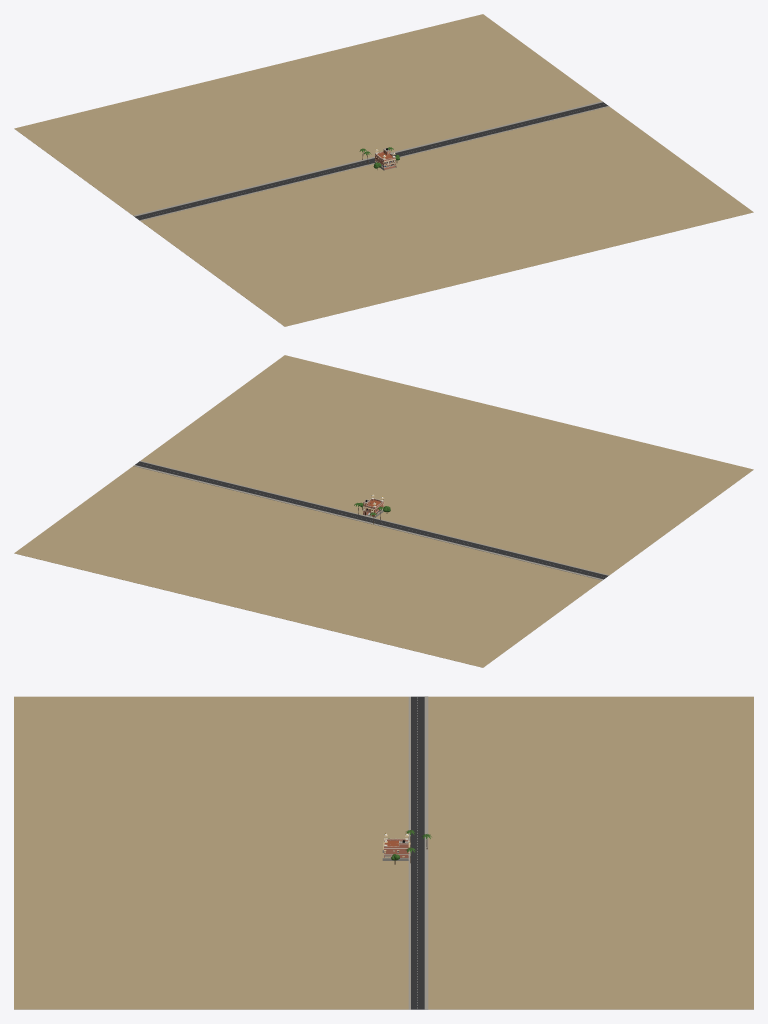
Rendered from home_hotel.glb.
3 views of the same model, one above another, from view 1: azimuth 30°, elevation 25°; view 2: azimuth 150°, elevation 25°; view 3: azimuth 270°, elevation 25° (orthographic). The views are drawn at different scales.
Visible parts, largest first — view 1: SITE__Earth, SITE__Asphalt, SITE__Concrete; view 2: SITE__Earth, SITE__Asphalt, SITE__Concrete; view 3: SITE__Earth, SITE__Asphalt, SITE__Concrete.
Boxes of the visible parts, bbox=[...] form: SITE__Earth: bbox=[14, 14, 753, 326]; SITE__Asphalt: bbox=[135, 102, 608, 220]; SITE__Concrete: bbox=[133, 101, 609, 220]; SITE__Earth: bbox=[14, 355, 753, 667]; SITE__Asphalt: bbox=[135, 461, 607, 579]; SITE__Concrete: bbox=[133, 460, 609, 580]; SITE__Earth: bbox=[14, 696, 753, 1009]; SITE__Asphalt: bbox=[411, 696, 424, 1009]; SITE__Concrete: bbox=[382, 696, 428, 1009].
Size of the model in its own units: 366 by 11.95 by 366.
